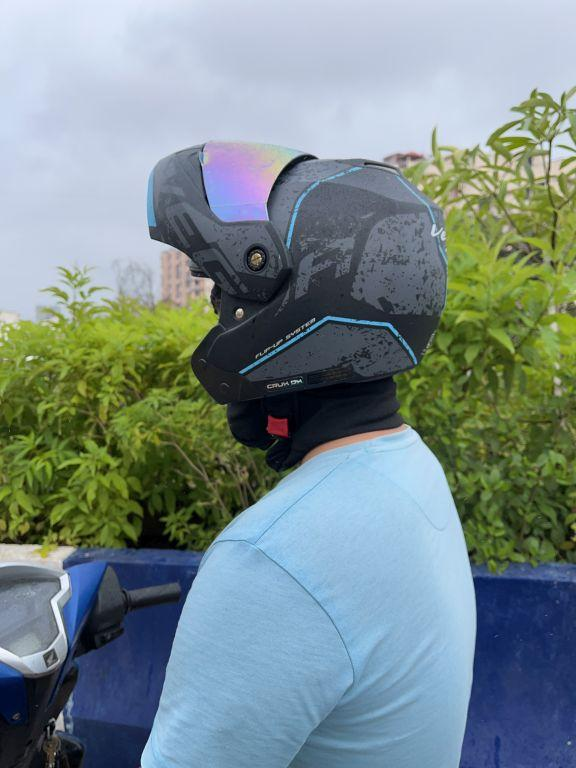helmet: (140, 125, 458, 451)
